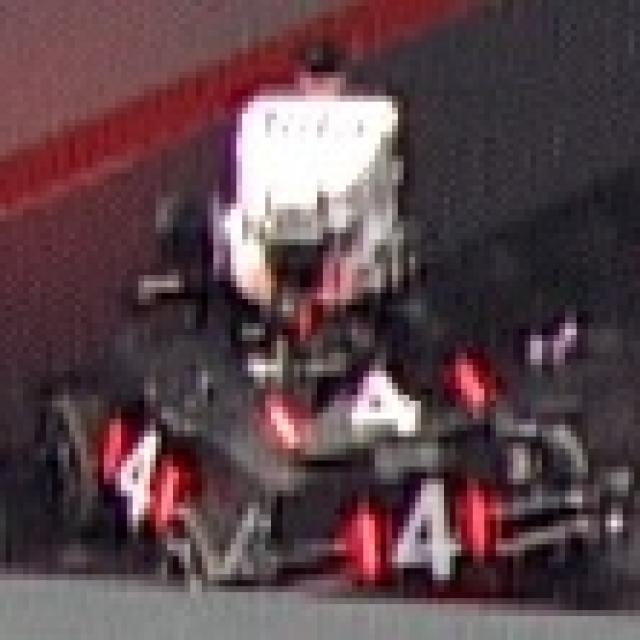R4: (271, 347, 496, 449), (352, 473, 496, 586), (104, 407, 179, 526)
